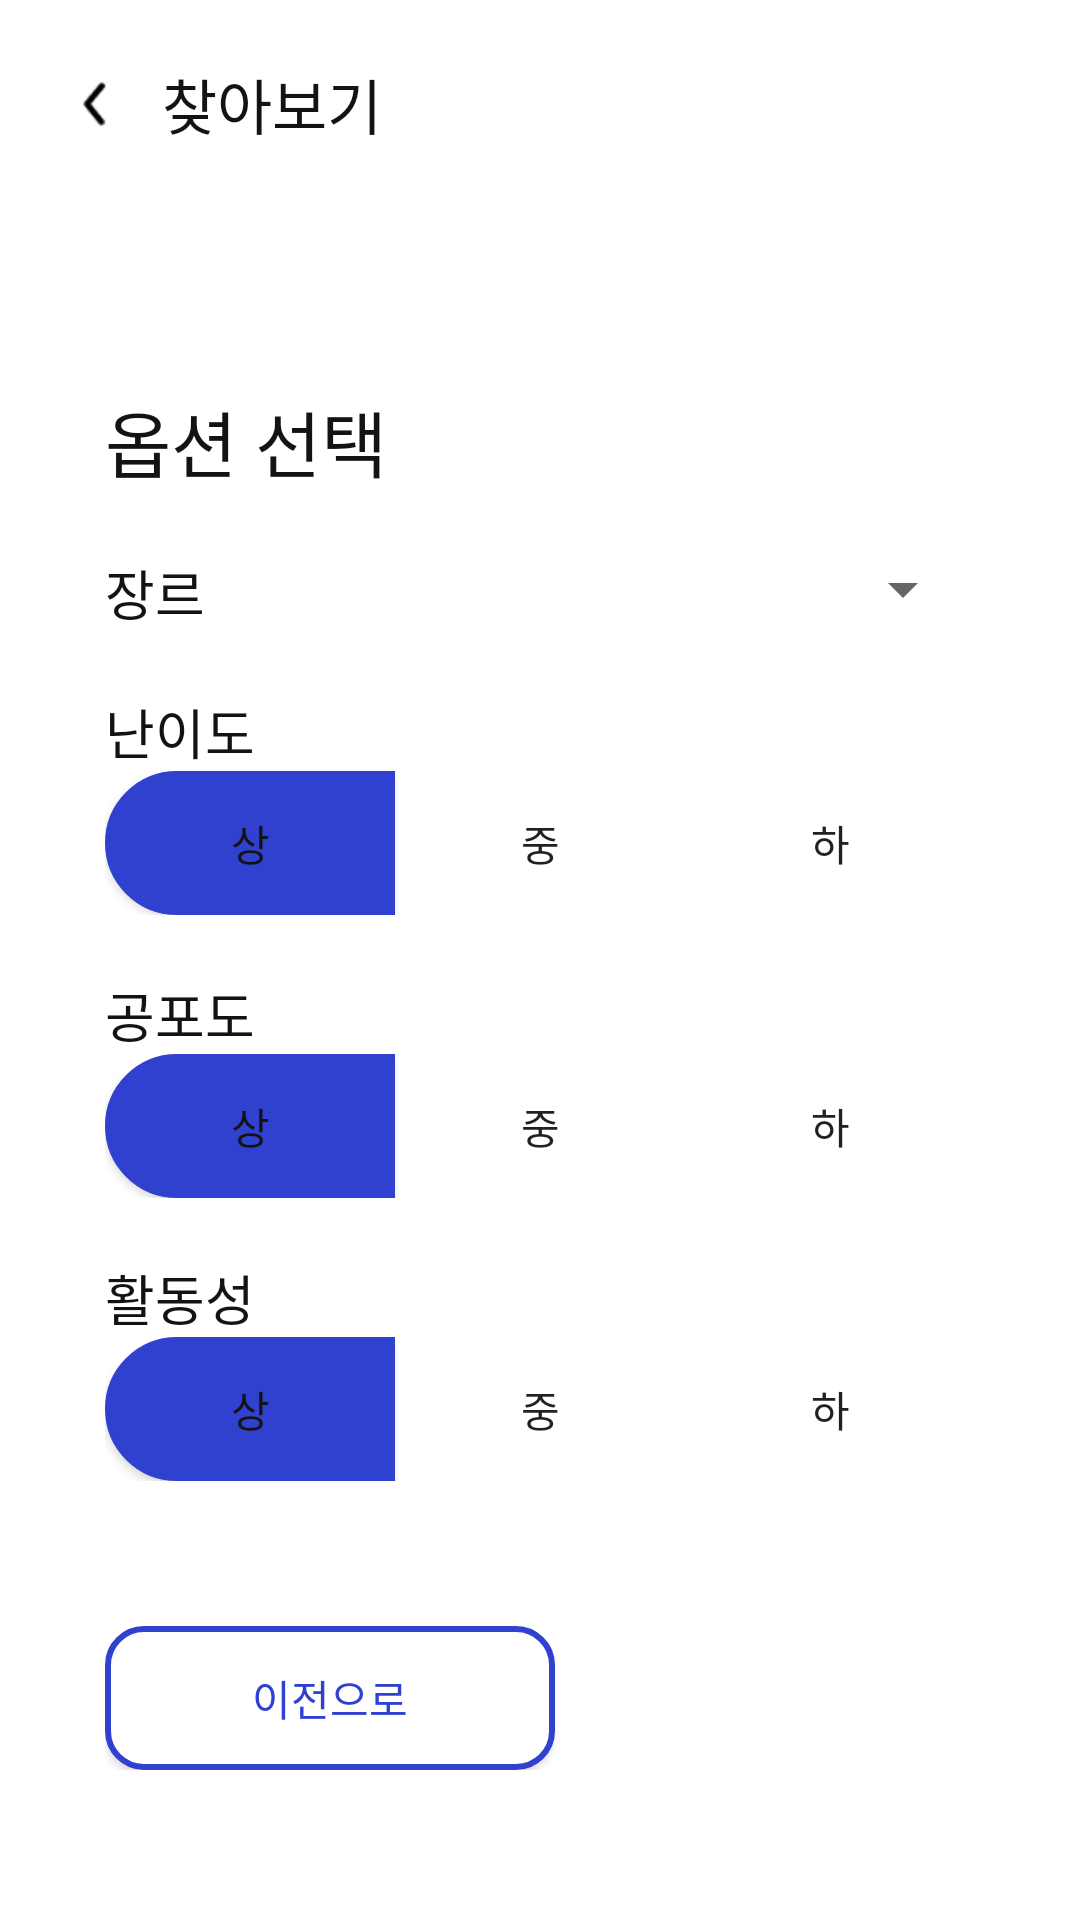

Icons on this 1080px x 1920px Android screen, each with its box as [x1,y1,x2,y2]:
arrow: [83,82,106,126]
